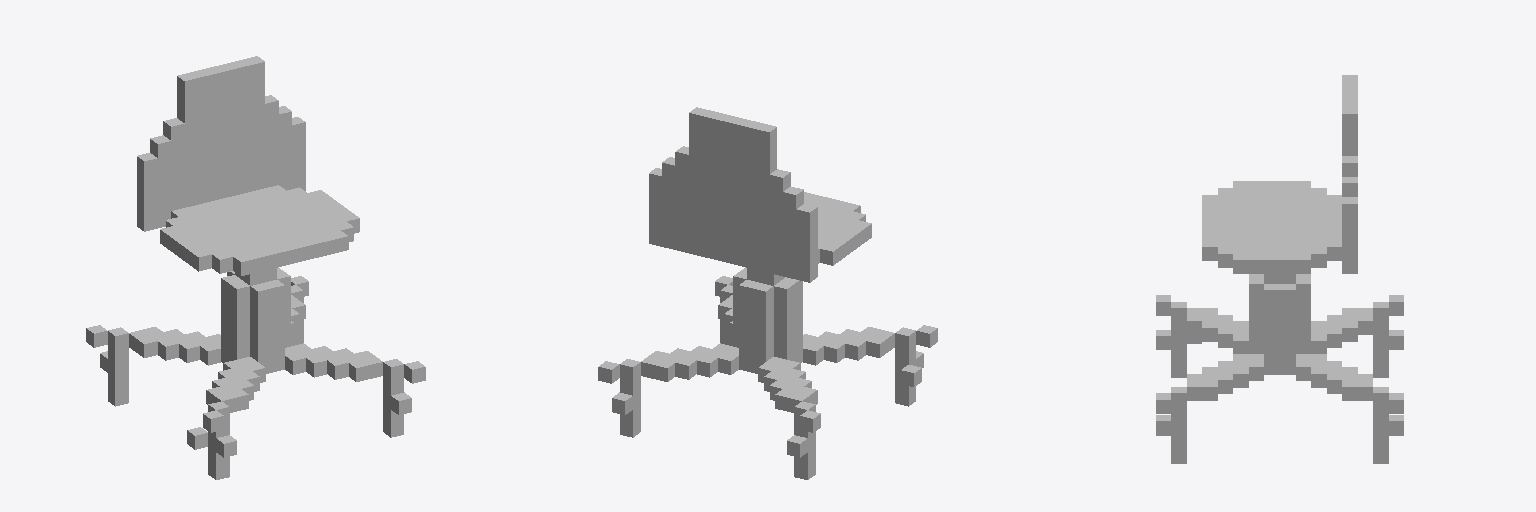
Rendered from chair.obj.
3 renders of one model, left to right at view 1: azimuth 30°, elevation 25°; view 2: azimuth 150°, elevation 25°; view 3: azimuth 270°, elevation 25°, orthographic.
Size of the model in its own units: 16 by 23 by 16.